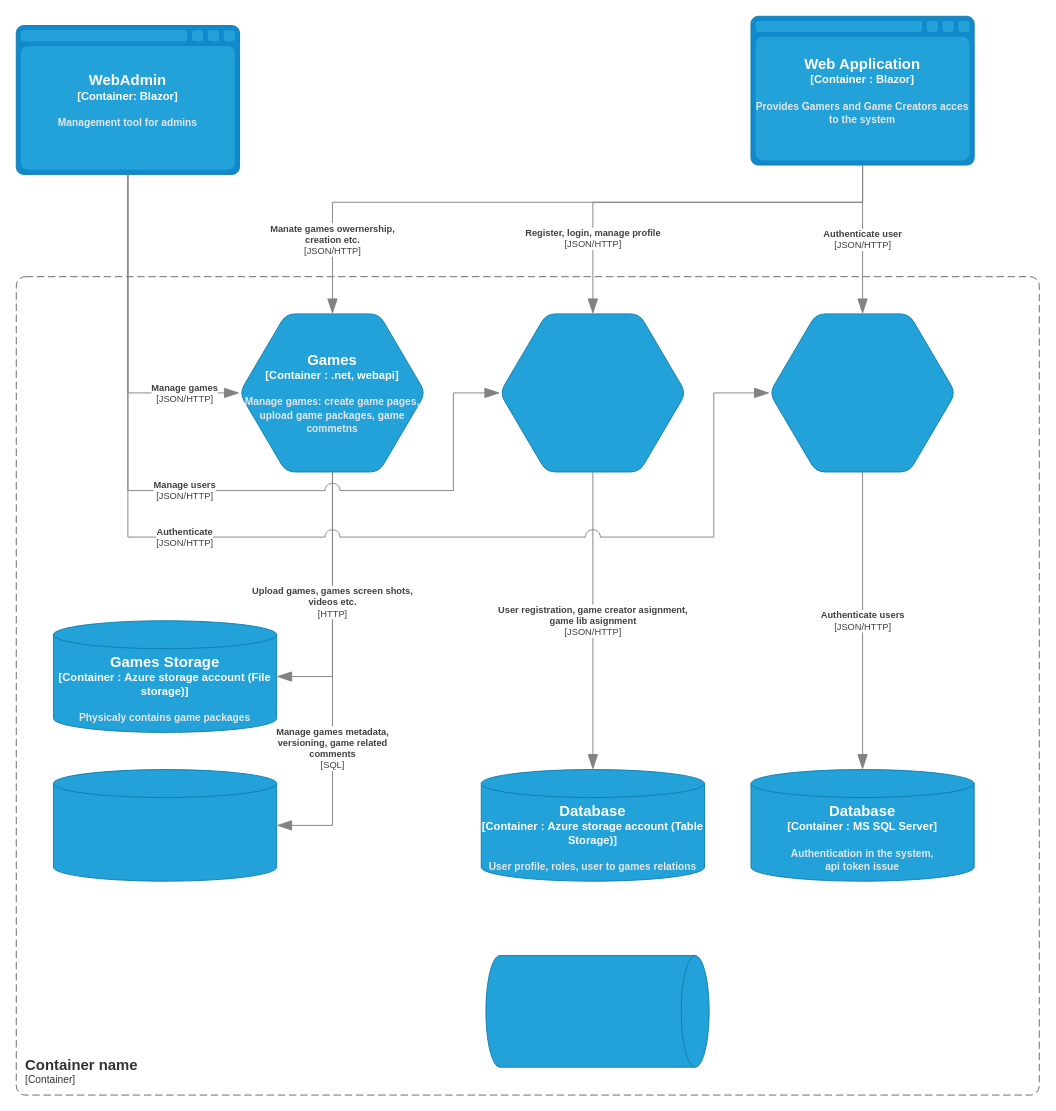
The diagram is 1056 pixels wide and 1111 high, and some of its shapes have lost their labels. Here are the shapes that lost their labels. From the top down, the centre of each, then its label:
At pixel 592 392: "Users [Container: .net, web api] Manage user accounts, profiles, roles".
At pixel 862 392: "Auth [Container : .net, web api] User authentication".
At pixel 165 825: "Database [Container : MS SQL Server] Games metadata, versioning etc.".
At pixel 597 1011: "Message Bus [Container : Azure Service Bus] Glitch IO internall messaging".
